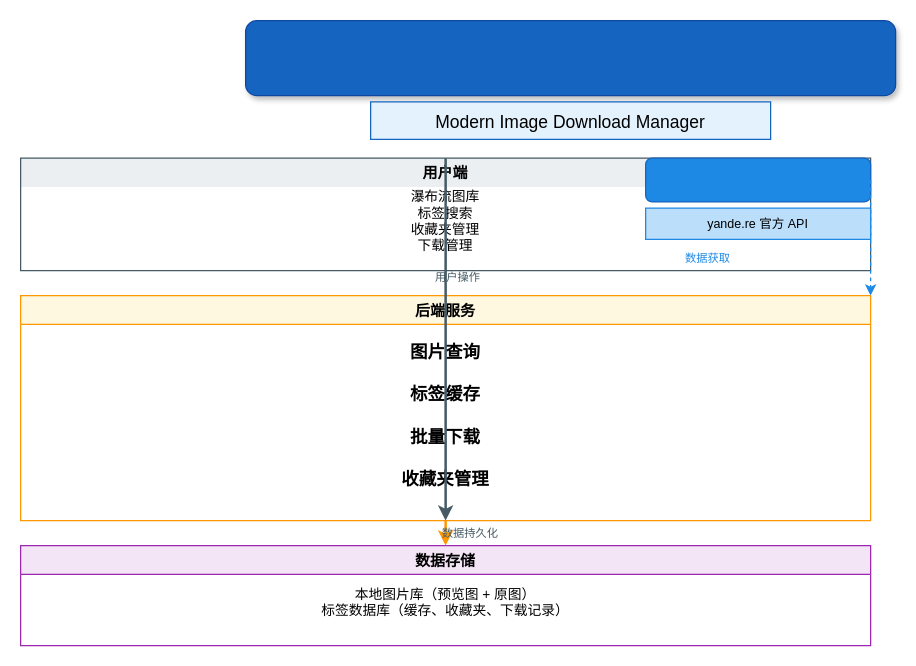
Some shapes in this 916 by 666 pixel diagram are drawn without their labels. The shapes that lost their labels are listed below. From the top down, each one's centre as x and y in pixels, then its label:
(571,59): Yande.re Spider Next
(757,179): 外部数据源
